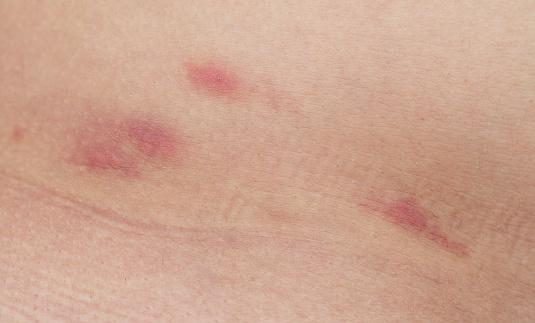Fleas: (359, 177, 476, 267), (118, 103, 184, 169), (177, 51, 251, 109), (82, 140, 143, 180)
